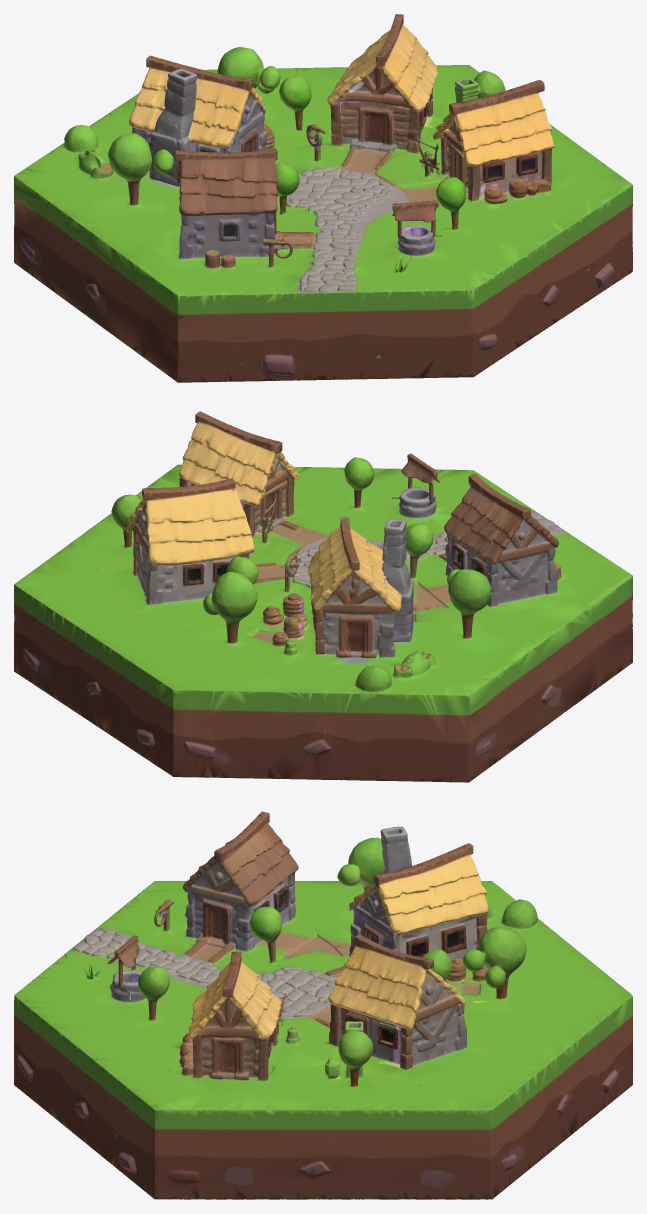
File: towntile_lv2.glb
3 renders of one model, top to bottom at view 1: azimuth 30°, elevation 25°; view 2: azimuth 150°, elevation 25°; view 3: azimuth 270°, elevation 25°, orthographic. The views are drawn at different scales.
Bounding box in the file's own units: 1.68 × 0.7574 × 1.9.
Materials: 1 (1 with a texture image).
